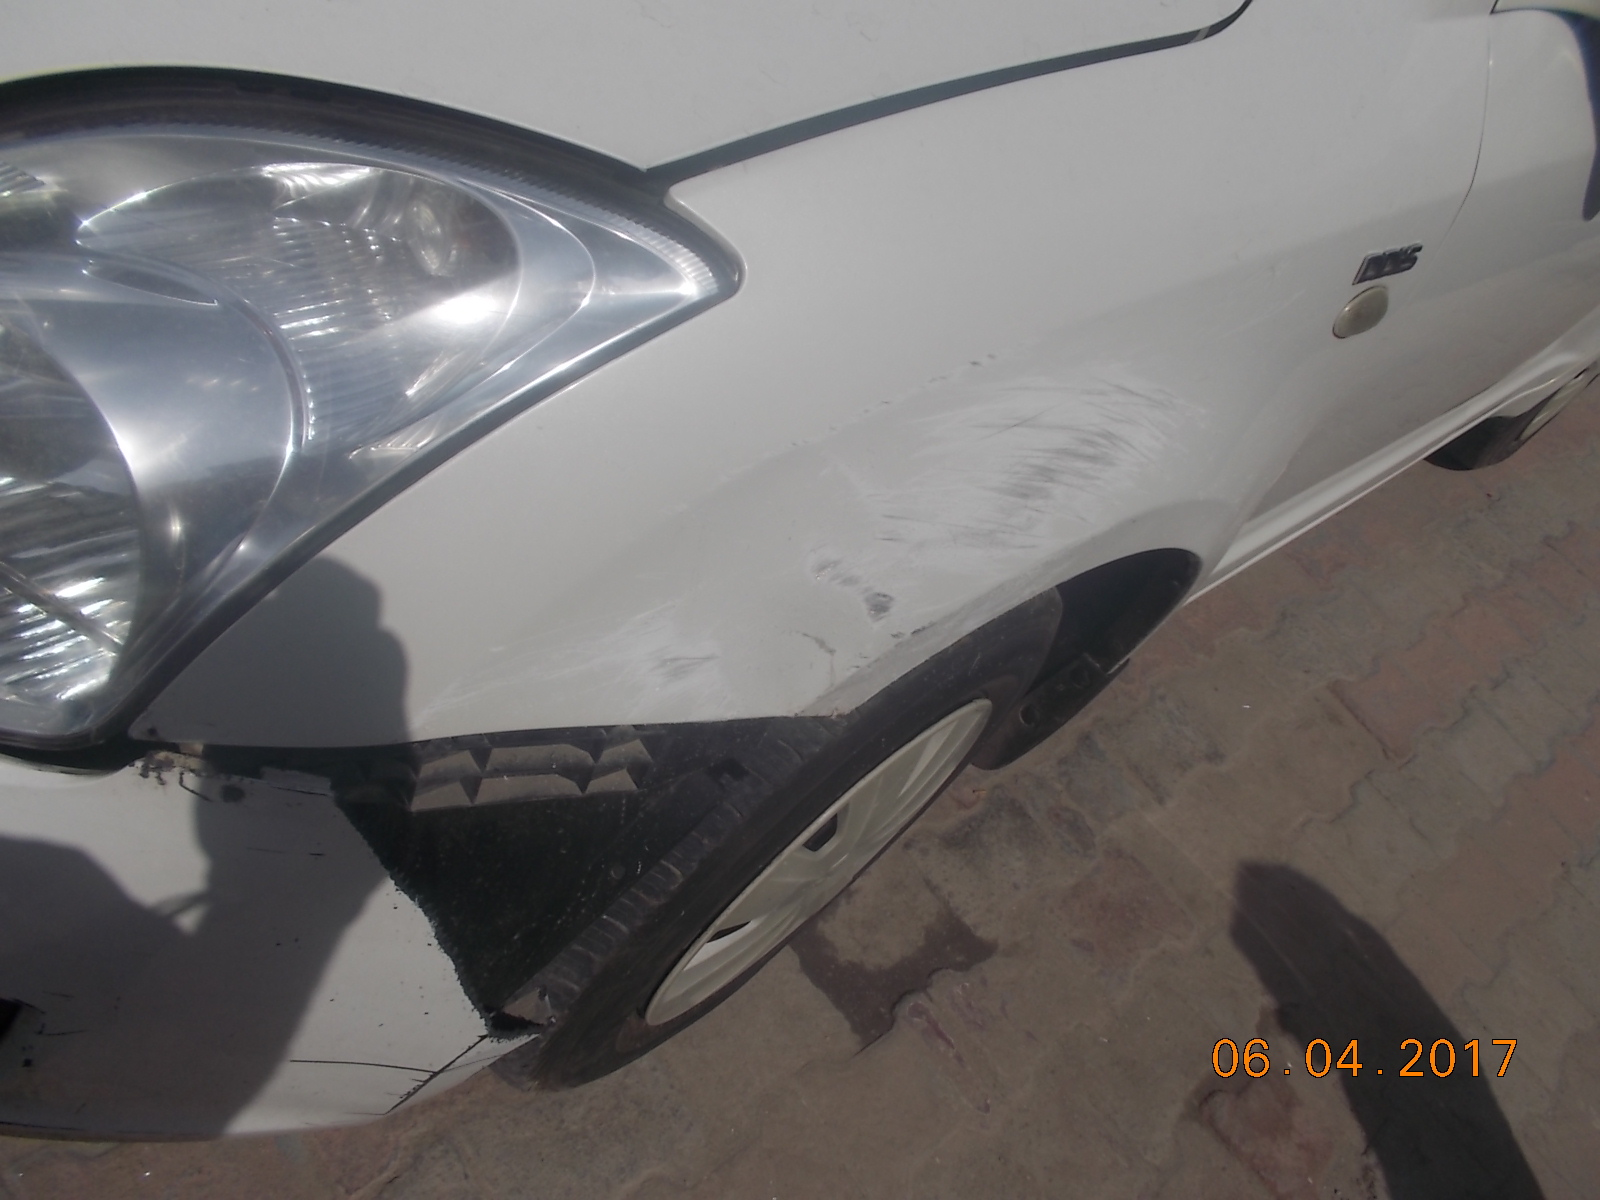Tear: (316, 763, 406, 966), (430, 921, 523, 1051)
